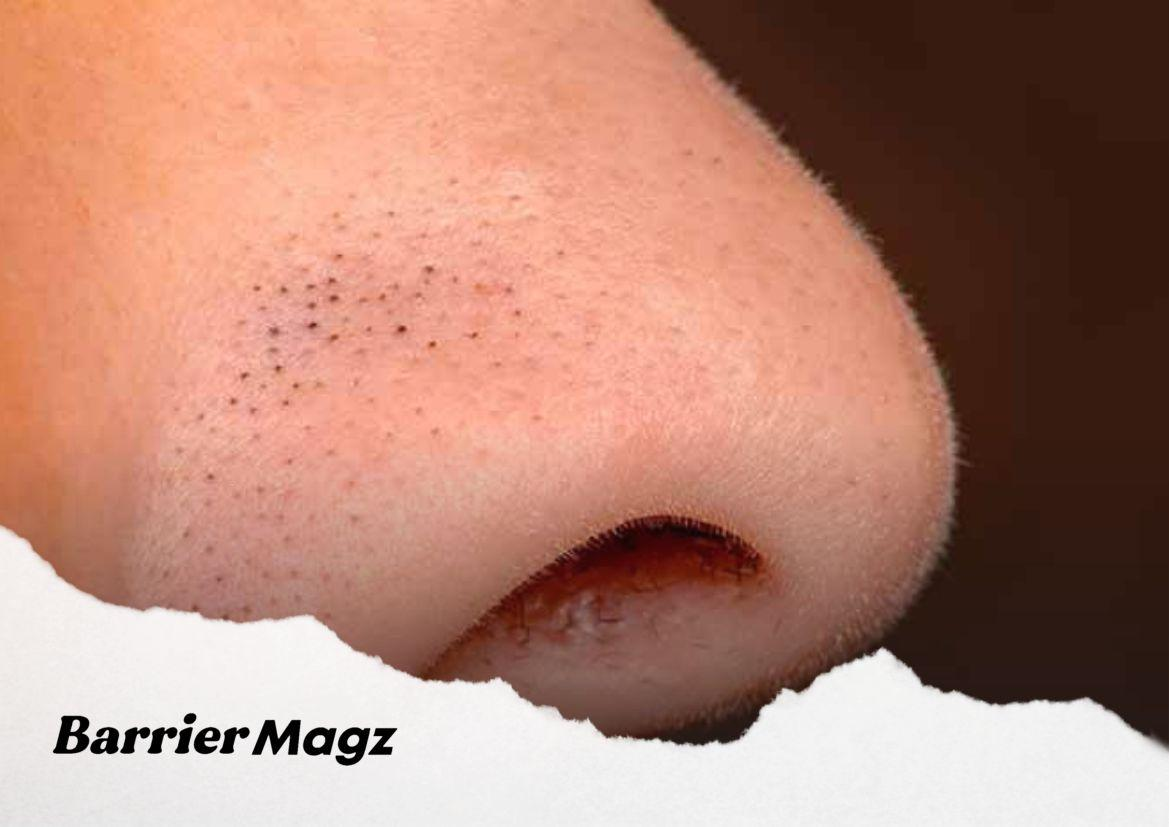Acne: (138, 196, 935, 640)
